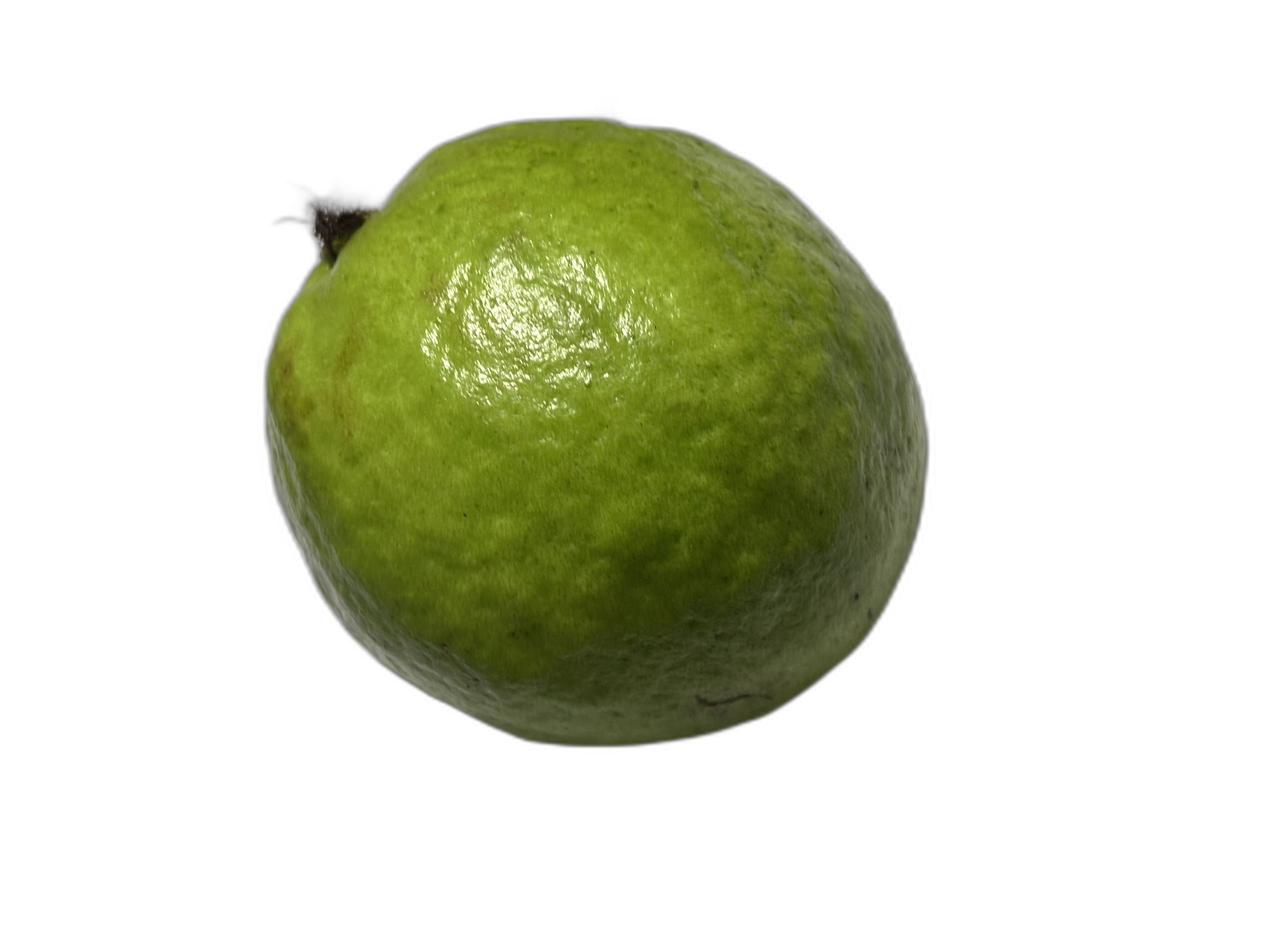guava: (228, 0, 992, 792)
